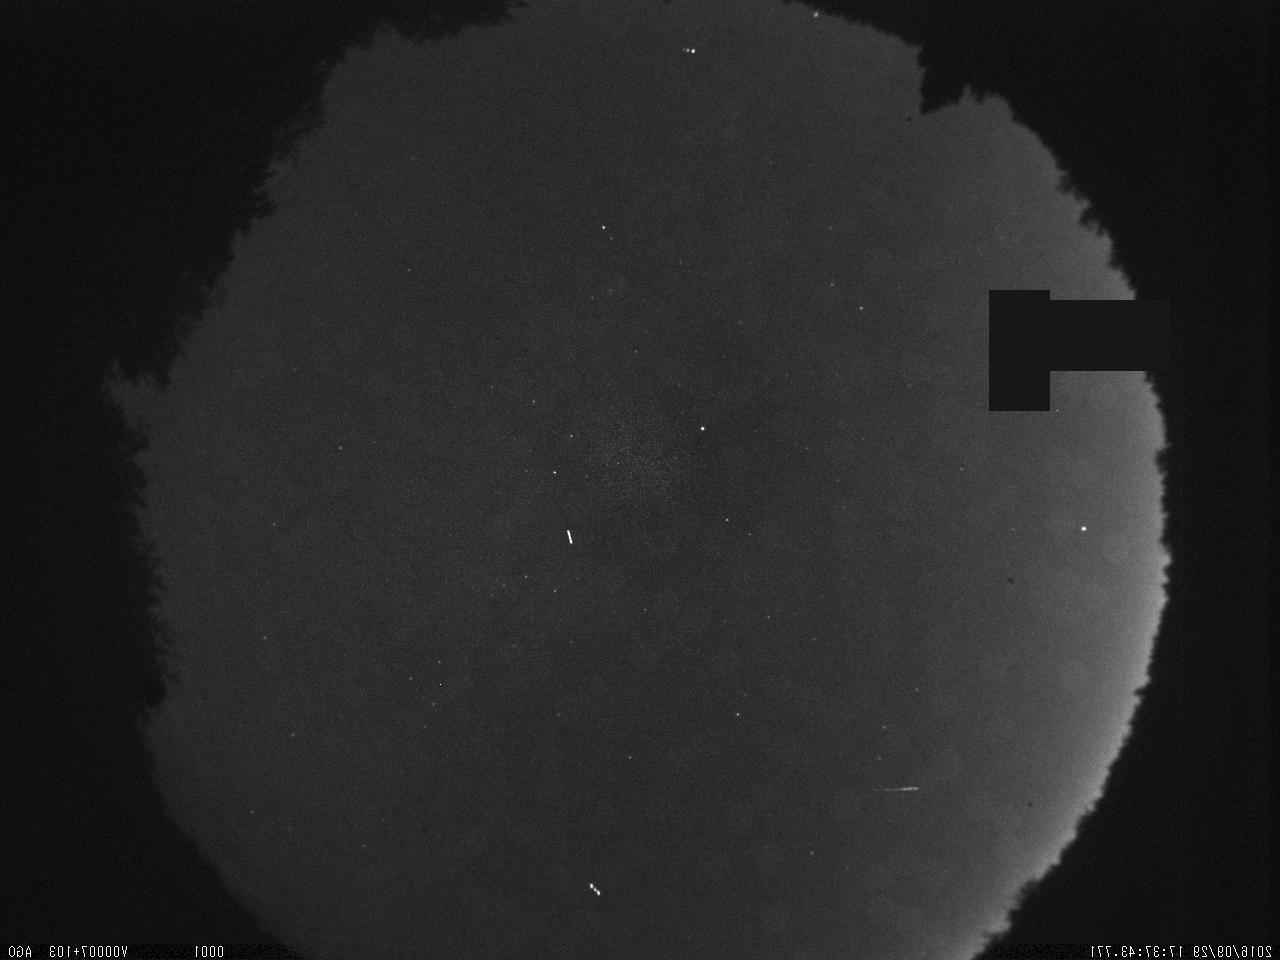meteor: (854, 769, 927, 806)
